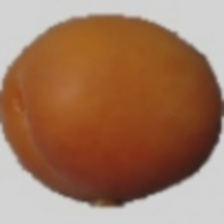apricot: (28, 11, 170, 175)
